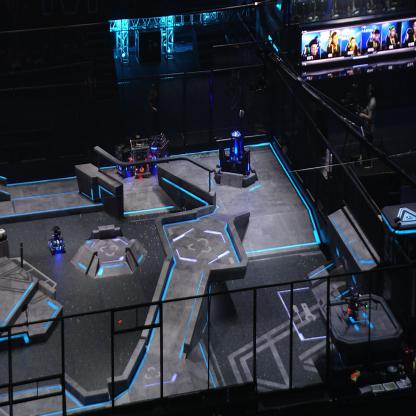car: (130, 136, 151, 177), (150, 134, 170, 166), (115, 145, 133, 178), (47, 224, 66, 254)
